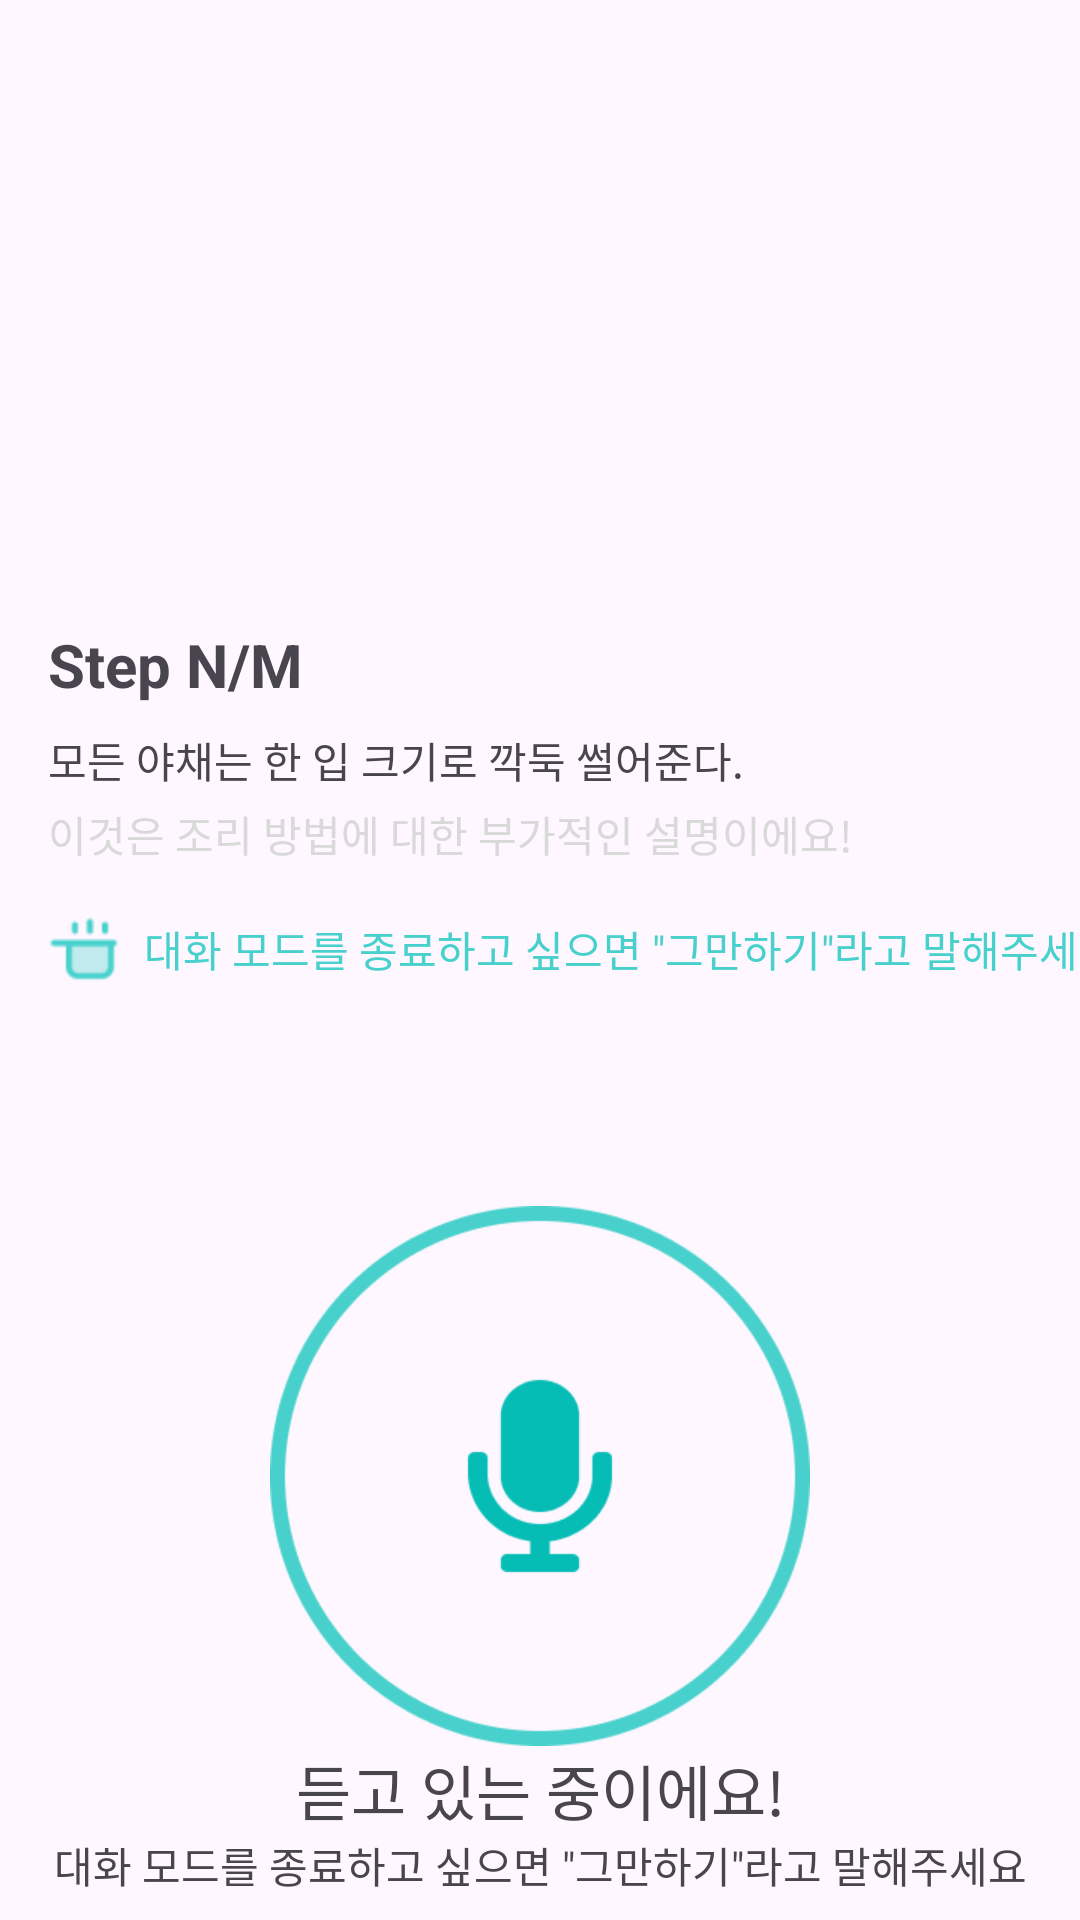

Named icons in this screenshot (1080 × 1920) and their bounding boxes, bbox(x1, y1, x2, y2):
pot src: bbox(50, 918, 118, 980)
